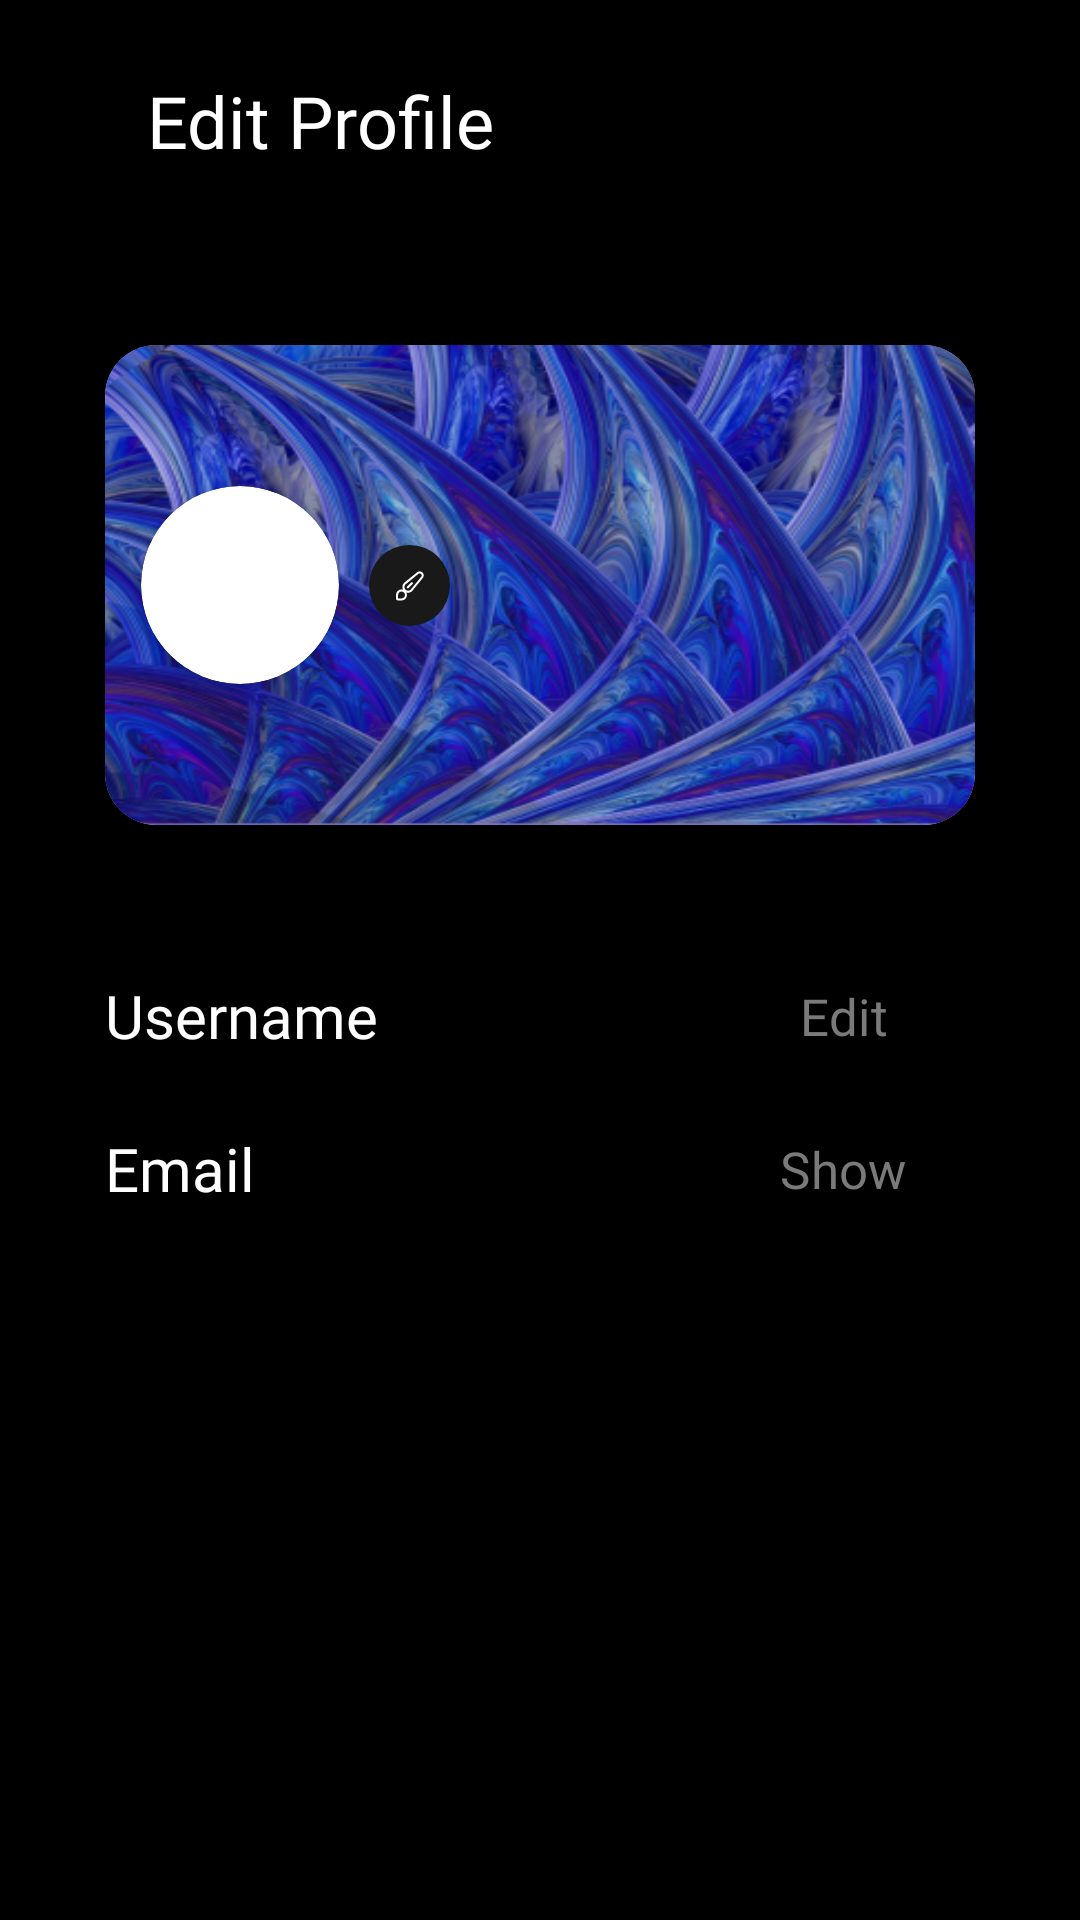

Named icons in this screenshot (1080 × 1920) and their centers, (x=x, y=y):
brush: (x=409, y=585)
